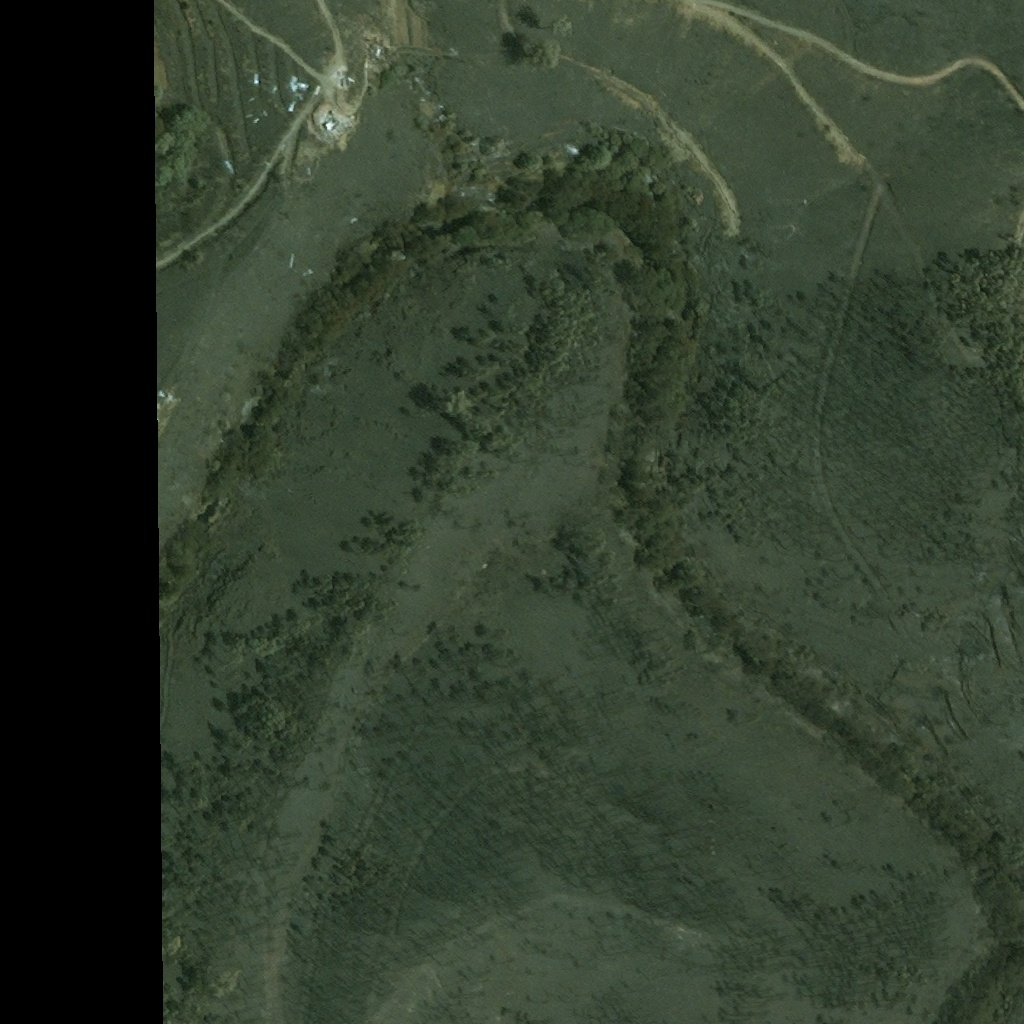3 destroyed: (319, 104, 363, 145), (164, 391, 184, 434), (366, 33, 392, 62), (342, 75, 354, 87)
